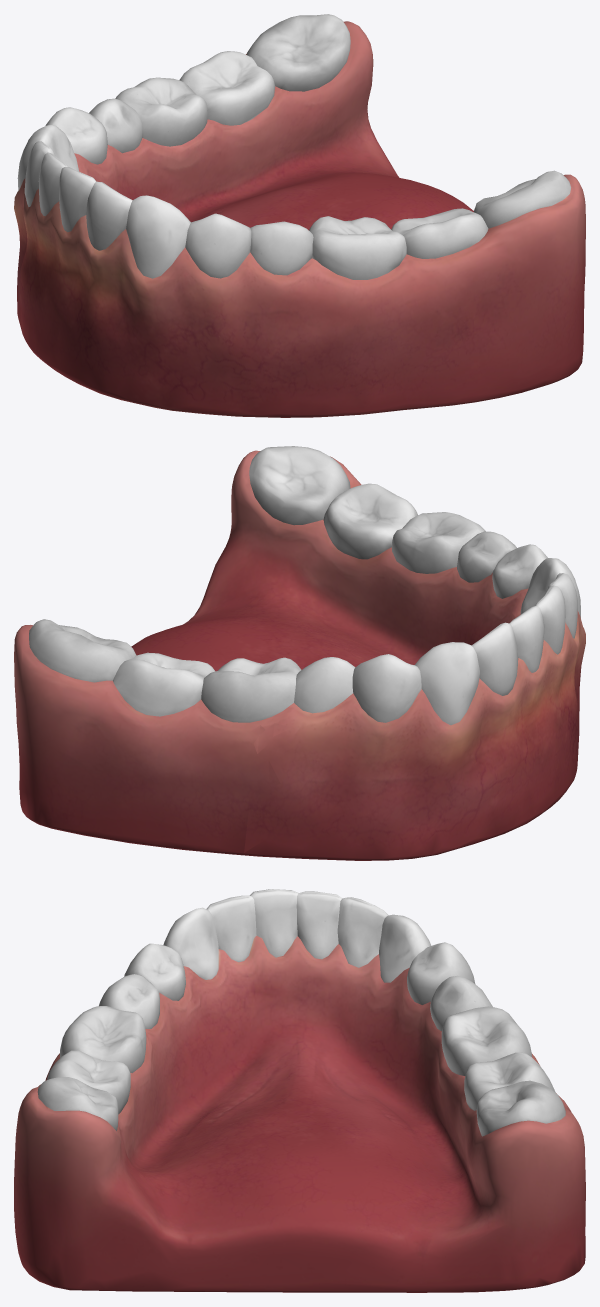
The picture shows the model from 3 angles, top to bottom: view 1: azimuth 30°, elevation 25°; view 2: azimuth 150°, elevation 25°; view 3: azimuth 270°, elevation 25°; orthographic projection.
Parts seen in each view (by area): view 1: 001-0-1; view 2: 001-0-1; view 3: 001-0-1.
Part boxes in pixels (left/top/right/bottom): 001-0-1: left=14, top=14, right=585, bottom=417; 001-0-1: left=14, top=446, right=585, bottom=860; 001-0-1: left=14, top=889, right=585, bottom=1292.
Size of the model in its own units: 108 by 50.07 by 126.
Materials: 1 (1 with a texture image).
